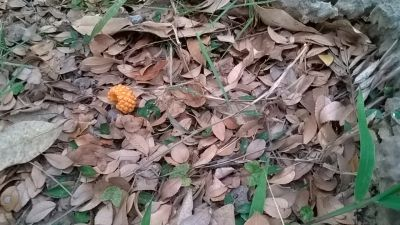eggs: (106, 84, 137, 113)
